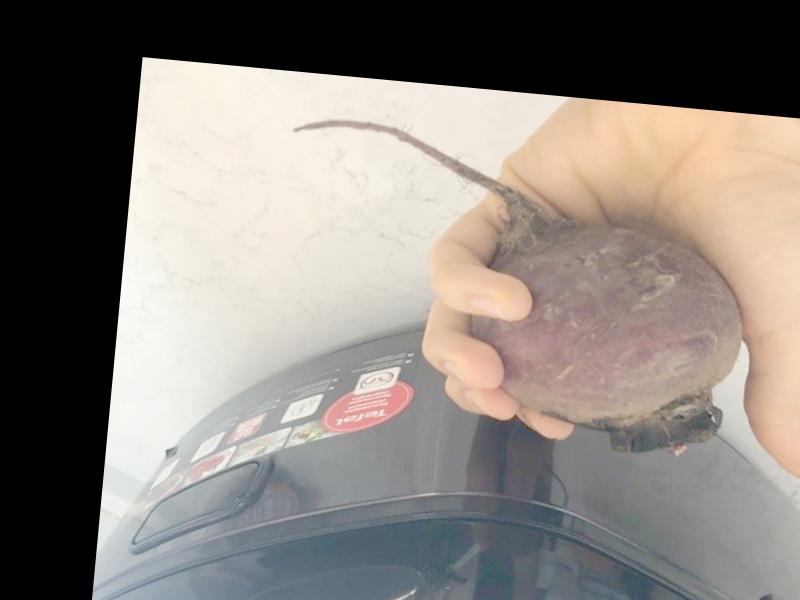Beet: (265, 114, 757, 461)
